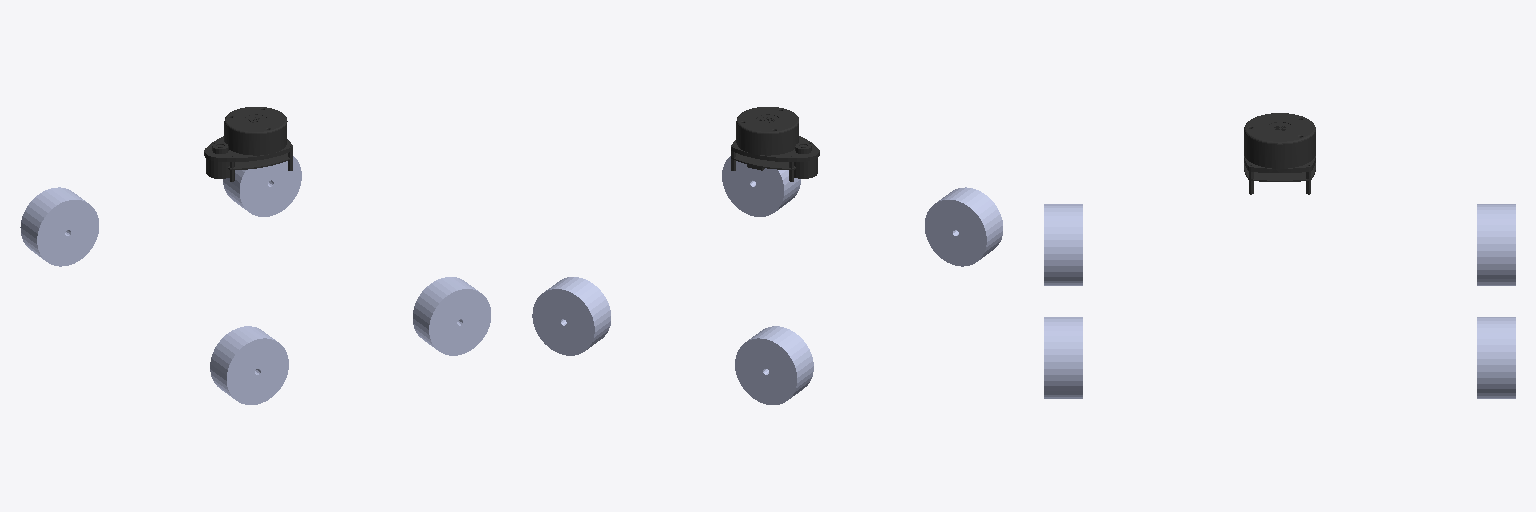
URDF robot description (snot_bot):
<?xml version="1.0" encoding="utf-8"?>
<!-- This URDF was automatically created by SolidWorks to URDF Exporter! Originally created by [author] ([email redacted]) 
     Commit Version: 1.6.0-4-g7f85cfe  Build Version: 1.6.7995.38578
     For more information, please see http://wiki.ros.org/sw_urdf_exporter -->
<robot
  name="snot_bot">
  <link
    name="base_link">
    <visual>
      <origin
        xyz="0 0 0"
        rpy="0 0 0" />
      <geometry>
        <mesh
          filename="package://snot_robot_description/meshes/base_link.STL" />
      </geometry>
      <material
        name="">
        <color
          rgba="0.79216 0.81961 0.93333 1" />
      </material>
    </visual>
    <collision>
      <origin
        xyz="0 0 0"
        rpy="0 0 0" />
      <geometry>
        <mesh
          filename="package://snot_robot_description/meshes/base_link.STL" />
      </geometry>
    </collision>
  </link>
  <link
  
    name="left_front_wheel">
    <inertial>
      <origin
        xyz="0 -0.0185 2.1684E-19"
        rpy="0 0 0" />
      <mass
        value="0.18412" />
      <inertia
        ixx="9.5391E-05"
        ixy="-6.5292E-23"
        ixz="1.6664E-21"
        iyy="0.00014877"
        iyz="2.4485E-23"
        izz="9.5391E-05" />
    </inertial>
    <visual>
      <origin
        xyz="0 0 0"
        rpy="0 0 0" />
      <geometry>
        <mesh
          filename="package://snot_robot_description/meshes/left_front_wheel.STL" />
      </geometry>
      <material
        name="">
        <color
          rgba="0.79216 0.81961 0.93333 1" />
      </material>
    </visual>
    <collision>
      <origin
        xyz="0 0 0"
        rpy="0 0 0" />
      <geometry>
        <mesh
          filename="package://snot_robot_description/meshes/left_front_wheel.STL" />
      </geometry>
    </collision>
  </link>
  <joint
    name="left_front_wheel"
    type="continuous">
    <origin
      xyz="0.12982 0.229 0.039505"
      rpy="0 0 0" />
    <parent
      link="base_link" />
    <child
      link="left_front_wheel" />
    <axis
      xyz="0 1 0" />
  </joint>
  <link
    name="left_rear_wheel">
    <inertial>
      <origin
        xyz="6.9389E-18 -0.0185 -1.5179E-18"
        rpy="0 0 0" />
      <mass
        value="0.18412" />
      <inertia
        ixx="9.5391E-05"
        ixy="6.5292E-23"
        ixz="1.9598E-21"
        iyy="0.00014877"
        iyz="6.6753E-21"
        izz="9.5391E-05" />
    </inertial>
    <visual>
      <origin
        xyz="0 0 0"
        rpy="0 0 0" />
      <geometry>
        <mesh
          filename="package://snot_robot_description/meshes/left_rear_wheel.STL" />
      </geometry>
      <material
        name="">
        <color
          rgba="0.79216 0.81961 0.93333 1" />
      </material>
    </visual>
    <collision>
      <origin
        xyz="0 0 0"
        rpy="0 0 0" />
      <geometry>
        <mesh
          filename="package://snot_robot_description/meshes/left_rear_wheel.STL" />
      </geometry>
    </collision>
  </link>
  <joint
    name="left_rear_wheel"
    type="continuous">
    <origin
      xyz="-0.12983 0.229 0.039505"
      rpy="0 0 0" />
    <parent
      link="base_link" />
    <child
      link="left_rear_wheel" />
    <axis
      xyz="0 1 0" />
  </joint>
  <link
    name="right_rear_wheel">
    <inertial>
      <origin
        xyz="3.4694E-18 0.0185 2.6021E-18"
        rpy="0 0 0" />
      <mass
        value="0.18412" />
      <inertia
        ixx="9.5391E-05"
        ixy="-2.122E-21"
        ixz="1.2911E-22"
        iyy="0.00014877"
        iyz="6.5356E-21"
        izz="9.5391E-05" />
    </inertial>
    <visual>
      <origin
        xyz="0 0 0"
        rpy="0 0 0" />
      <geometry>
        <mesh
          filename="package://snot_robot_description/meshes/right_rear_wheel.STL" />
      </geometry>
      <material
        name="">
        <color
          rgba="0.79216 0.81961 0.93333 1" />
      </material>
    </visual>
    <collision>
      <origin
        xyz="0 0 0"
        rpy="0 0 0" />
      <geometry>
        <mesh
          filename="package://snot_robot_description/meshes/right_rear_wheel.STL" />
      </geometry>
    </collision>
  </link>
  <joint
    name="right_rear_wheel"
    type="continuous">
    <origin
      xyz="-0.12983 -0.229 0.039505"
      rpy="0 0 0" />
    <parent
      link="base_link" />
    <child
      link="right_rear_wheel" />
    <axis
      xyz="0 1 0" />
  </joint>
  <link
    name="right_front_wheel">
    <inertial>
      <origin
        xyz="0 0.0185 2.3852E-18"
        rpy="0 0 0" />
      <mass
        value="0.18412" />
      <inertia
        ixx="9.5391E-05"
        ixy="-2.0893E-21"
        ixz="-2.6085E-37"
        iyy="0.00014877"
        iyz="6.6672E-21"
        izz="9.5391E-05" />
    </inertial>
    <visual>
      <origin
        xyz="0 0 0"
        rpy="0 0 0" />
      <geometry>
        <mesh
          filename="package://snot_robot_description/meshes/right_front_wheel.STL" />
      </geometry>
      <material
        name="">
        <color
          rgba="0.79216 0.81961 0.93333 1" />
      </material>
    </visual>
    <collision>
      <origin
        xyz="0 0 0"
        rpy="0 0 0" />
      <geometry>
        <mesh
          filename="package://snot_robot_description/meshes/right_front_wheel.STL" />
      </geometry>
    </collision>
  </link>
  <joint
    name="right_front_wheel"
    type="continuous">
    <origin
      xyz="0.12982 -0.229 0.039505"
      rpy="0 0 0" />
    <parent
      link="base_link" />
    <child
      link="right_front_wheel" />
    <axis
      xyz="0 1 0" />
  </joint>
  <link
    name="camera">
    <inertial>
      <origin
        xyz="0.00047839 0.016521 -0.029048"
        rpy="0 0 0" />
      <mass
        value="0.82085" />
      <inertia
        ixx="0.00040911"
        ixy="5.4099E-06"
        ixz="1.8347E-05"
        iyy="0.0039182"
        iyz="-3.0404E-05"
        izz="0.0037595" />
    </inertial>
    <visual>
      <origin
        xyz="0 0 0"
        rpy="0 0 0" />
      <geometry>
        <mesh
          filename="package://snot_robot_description/meshes/camera.STL" />
      </geometry>
      <material
        name="">
        <color
          rgba="0.75294 0.75294 0.75294 1" />
      </material>
    </visual>
    <collision>
      <origin
        xyz="0 0 0"
        rpy="0 0 0" />
      <geometry>
        <mesh
          filename="package://snot_robot_description/meshes/camera.STL" />
      </geometry>
    </collision>
  </link>
  <joint
    name="camera"
    type="fixed">
    <origin
      xyz="0.143 0 0.10243"
      rpy="1.5708 0 1.5708" />
    <parent
      link="base_link" />
    <child
      link="camera" />
    <axis
      xyz="0 0 0" />
  </joint>
  <link
    name="lidar">
    <inertial>
      <origin
        xyz="0.0063461 -9.1926E-05 -0.022432"
        rpy="0 0 0" />
      <mass
        value="1.3308" />
      <inertia
        ixx="0.00061492"
        ixy="-8.0198E-07"
        ixz="0.00015824"
        iyy="0.0009607"
        iyz="-3.0916E-06"
        izz="0.0010982" />
    </inertial>
    <visual>
      <origin
        xyz="0 0 0"
        rpy="0 0 0" />
      <geometry>
        <mesh
          filename="package://snot_robot_description/meshes/lidar.STL" />
      </geometry>
      <material
        name="">
        <color
          rgba="0.25098 0.25098 0.25098 1" />
      </material>
    </visual>
    <collision>
      <origin
        xyz="0 0 0"
        rpy="0 0 0" />
      <geometry>
        <mesh
          filename="package://snot_robot_description/meshes/lidar.STL" />
      </geometry>
    </collision>
  </link>
  <joint
    name="lidar"
    type="fixed">
    <origin
      xyz="-0.00042039 0 0.22613"
      rpy="0 0 3.1416" />
    <parent
      link="base_link" />
    <child
      link="lidar" />
    <axis
      xyz="0 0 0" />
  </joint>
</robot>

--- Render facts (derived) ---
3 views of the same robot in one strip: view 1: azimuth 30°, elevation 25°; view 2: azimuth 150°, elevation 25°; view 3: azimuth 270°, elevation 25° (orthographic).
Robot: snot_bot — 7 links, 6 joints (4 continuous, 2 fixed); root link base_link; default pose: all joints at 0.
Links seen in each view (by area): view 1: right_rear_wheel, right_front_wheel, left_rear_wheel, lidar, left_front_wheel; view 2: left_rear_wheel, left_front_wheel, right_rear_wheel, lidar, right_front_wheel; view 3: lidar, left_front_wheel, left_rear_wheel, right_rear_wheel, right_front_wheel.
Boxes of the visible links, x1,y1,x2,y2 form: right_rear_wheel: (210,326,288,404); right_front_wheel: (413,277,490,355); left_rear_wheel: (20,187,98,266); lidar: (204,107,292,181); left_front_wheel: (223,156,301,216); left_rear_wheel: (735,326,813,404); left_front_wheel: (532,277,610,355); right_rear_wheel: (925,187,1002,266); lidar: (731,107,819,181); right_front_wheel: (722,156,800,216); lidar: (1244,113,1315,194); left_front_wheel: (1477,317,1515,398); left_rear_wheel: (1477,204,1515,285); right_rear_wheel: (1044,204,1082,285); right_front_wheel: (1044,317,1082,398).
Size in the robot's own frame: 0.3396 by 0.458 by 0.2266 metres.
5 mesh visuals loaded from 7 distinct referenced files (5 binary STL); not drawn: 2 (reference not matched to a file when rendering).